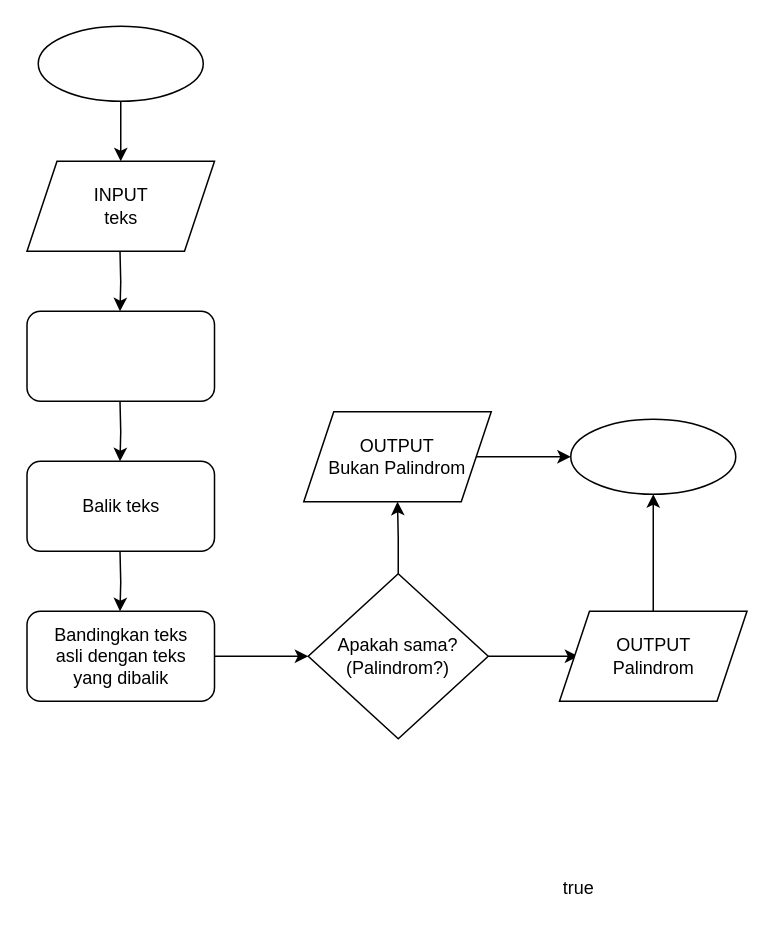
Image size: 773x938. Some labels were removed from this diagram. Here are the shapes that lost their labels. From the top down, the box of each, then its label:
(37, 25, 203, 101): Mulai
(26, 310, 214, 401): Hapus spasi dan ubah ke huruf kecil
(569, 418, 736, 494): Selesai
